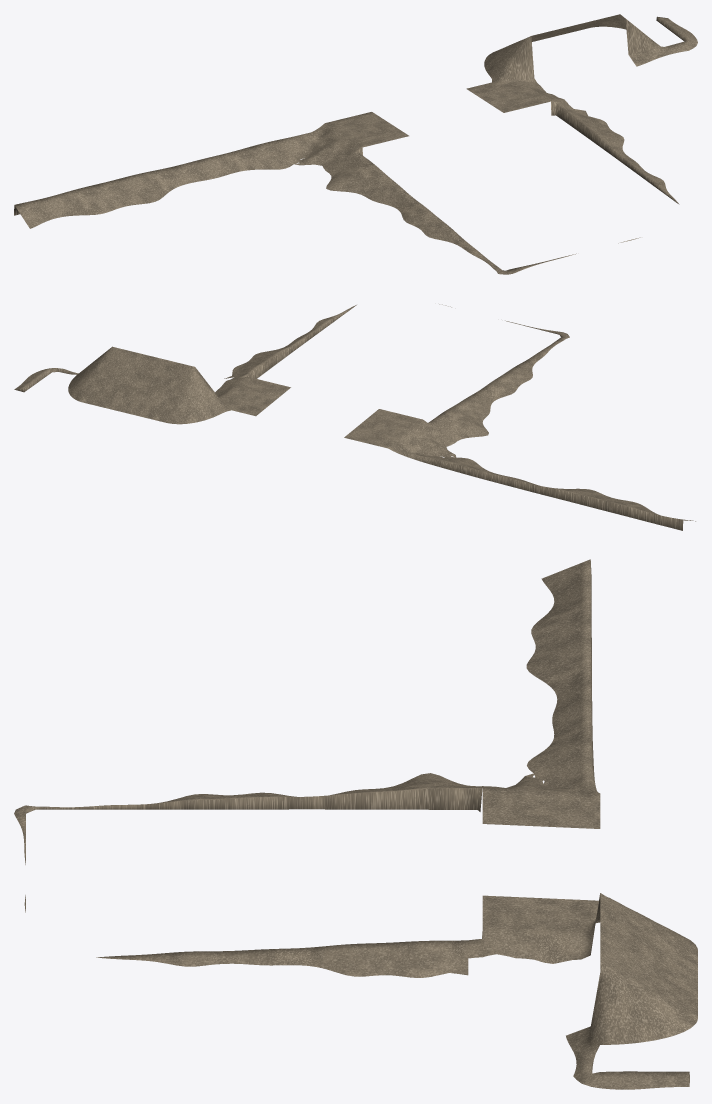
Rendered from SM_SubstationField_ApronGrade.fbx.
3 renders of one model, top to bottom at view 1: azimuth 30°, elevation 25°; view 2: azimuth 150°, elevation 25°; view 3: azimuth 270°, elevation 25°, orthographic. The views are drawn at different scales.
Visible parts, largest first — view 1: SM_SubstationField_ApronGrade; view 2: SM_SubstationField_ApronGrade; view 3: SM_SubstationField_ApronGrade.
Boxes of the visible parts, x1=… form: SM_SubstationField_ApronGrade: x1=14, y1=14, x2=697, y2=274; SM_SubstationField_ApronGrade: x1=14, y1=304, x2=695, y2=530; SM_SubstationField_ApronGrade: x1=14, y1=559, x2=697, y2=1089.
Size of the model in its own units: 13.17 by 7.27 by 0.9589.
